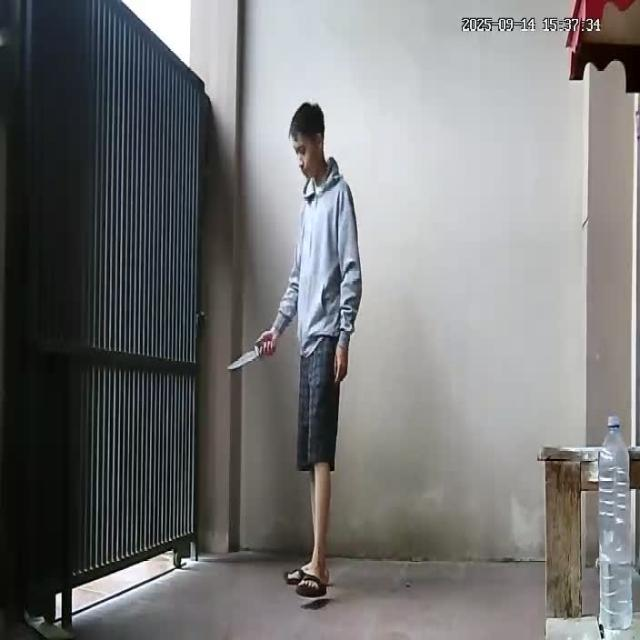senjata_tajam: (224, 346, 261, 372)
